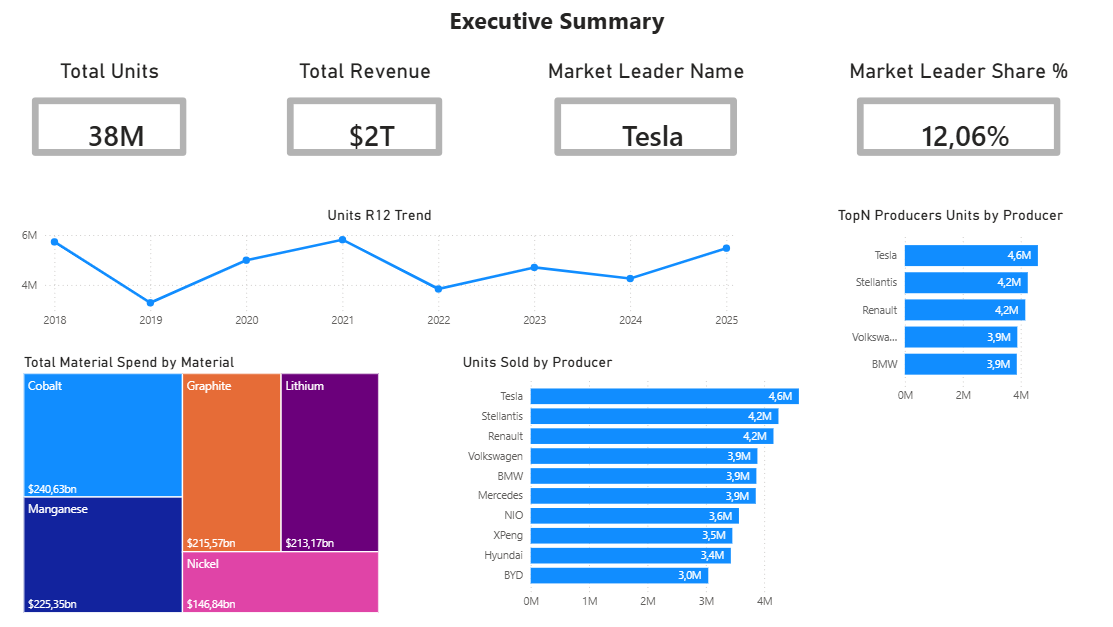

Layout of this report page (visuals, bound fields, positions):
{"tool":"powerbi","page":{"name":"Executive Summary","canvas":[1280,720],"ordinal":3},"visuals":[{"type":"cardVisual","title":"Total Units","fields":{"Data":["EV_Sales.Total Units Sold"]},"box":[22.2,67.6,211.7,128.6],"z":0},{"type":"cardVisual","title":"Total Revenue","fields":{"Data":["EV_Sales.Total Revenue"]},"box":[314.7,67.6,212.8,128.6],"z":1000},{"type":"cardVisual","title":"Market Leader Name","fields":{"Data":["EV_Sales.Market Leader Name"]},"box":[620.6,67.6,243.8,128.6],"z":2000},{"type":"cardVisual","title":"Market Leader Share %","fields":{"Data":["EV_Sales.Market Leader Share %"]},"box":[965.3,67.6,267.1,128.6],"z":3000},{"type":"lineChart","title":"Units R12 Trend","fields":{"Y":["EV_Sales.Units R12"],"Category":["DateTable.Date.Variation.Date Hierarchy.Year"]},"box":[22.2,236.1,829,148.5],"z":4000},{"type":"treemap","fields":{"Group":["Battery_Raw_Materials.Material"],"Values":["Battery_Raw_Materials.Total Material Spend"]},"box":[25.5,402.3,415.6,302.5],"z":5000},{"type":"clusteredBarChart","title":"Units Sold by Producer","fields":{"Category":["DimProducer.Producer"],"Y":["Sum(EV_Sales.UnitsSold)"]},"box":[527.5,402.3,428.9,302.5],"z":6000},{"type":"clusteredBarChart","fields":{"Category":["DimProducer.Producer"],"Y":["TopN.TopN Producers Units"]},"box":[956.4,236.1,275.9,234.9],"z":7000},{"type":"textbox","box":[0,0,1280,51],"z":8000}]}

Visuals, with their boxes in screenshot pixels (x1, y1, x2, y2), scaled from the page's 1280x720 canvas onto the 1113x627 screenshot:
"Total Units" cardVisual: region(19, 59, 203, 171)
"Total Revenue" cardVisual: region(274, 59, 459, 171)
"Market Leader Name" cardVisual: region(540, 59, 752, 171)
"Market Leader Share %" cardVisual: region(839, 59, 1072, 171)
"Units R12 Trend" lineChart: region(19, 206, 740, 335)
treemap - Battery_Raw_Materials.Material x Battery_Raw_Materials.Total Material Spend: region(22, 350, 384, 614)
"Units Sold by Producer" clusteredBarChart: region(459, 350, 832, 614)
clusteredBarChart - DimProducer.Producer x TopN.TopN Producers Units: region(832, 206, 1072, 410)
textbox: region(0, 0, 1112, 44)
